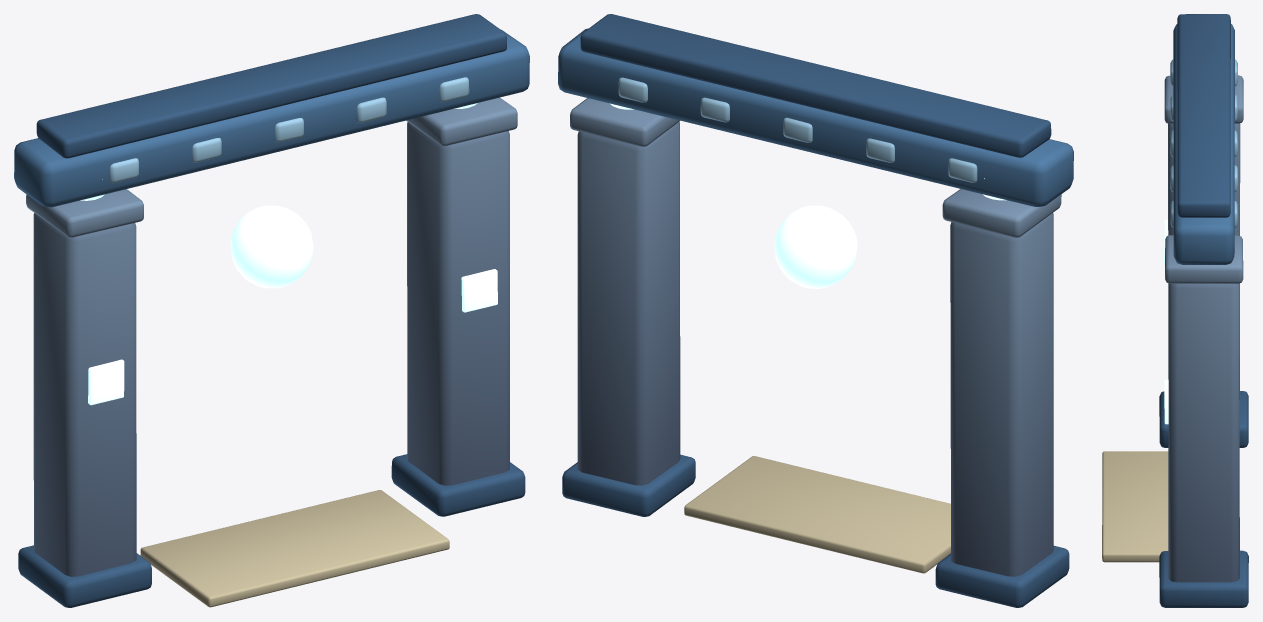
The picture shows the model from 3 angles, left to right: view 1: azimuth 30°, elevation 25°; view 2: azimuth 150°, elevation 25°; view 3: azimuth 270°, elevation 25°; orthographic projection. The views are drawn at different scales.
Parts seen in each view (by area): view 1: gate_25b19532; view 2: gate_25b19532; view 3: gate_25b19532.
Part boxes in pixels (x1,y1,x2,y2): gate_25b19532: (14,14,529,607); gate_25b19532: (558,14,1073,607); gate_25b19532: (1102,14,1248,607).
Bounding box in the file's own units: 4.87 × 4.37 × 1.44.
